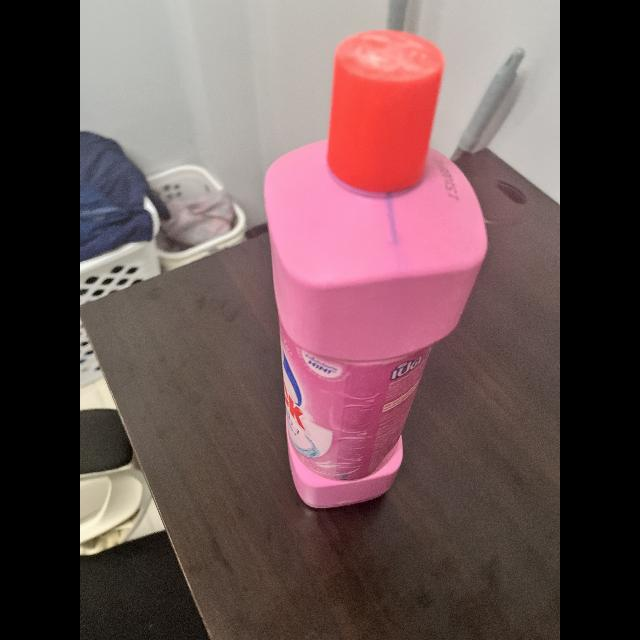chemical_plastic_bottle: (263, 23, 491, 511)
